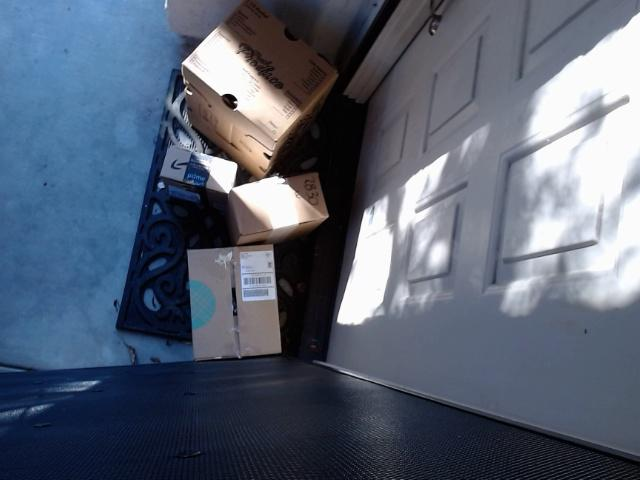box: (181, 0, 338, 180), (187, 243, 282, 360), (229, 173, 330, 243), (158, 144, 237, 213)
